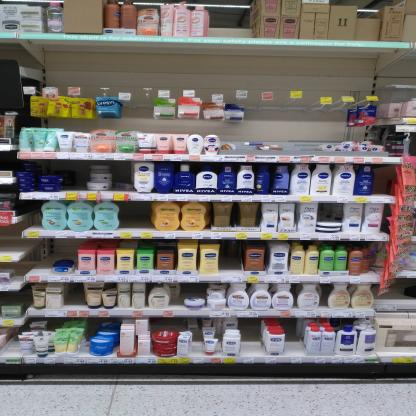empty_space: (208, 0, 256, 39), (246, 91, 278, 123), (120, 201, 152, 231), (376, 278, 413, 303), (241, 317, 264, 356), (27, 238, 49, 275), (327, 91, 349, 127), (62, 160, 86, 193), (220, 239, 242, 274), (279, 91, 303, 123), (304, 91, 327, 123), (372, 164, 394, 196), (285, 318, 303, 356), (20, 200, 42, 230), (0, 223, 19, 255), (0, 326, 19, 356), (63, 282, 84, 309), (191, 317, 205, 357), (120, 89, 139, 118), (114, 161, 130, 193), (284, 142, 318, 156), (139, 87, 153, 118)
